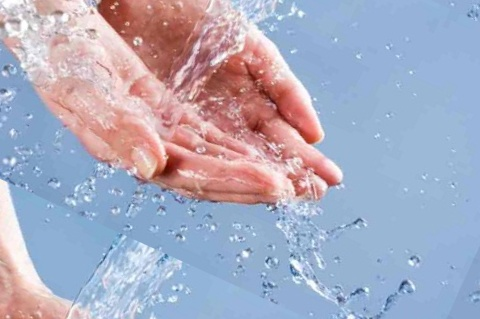washing hand: (0, 0, 474, 302)
